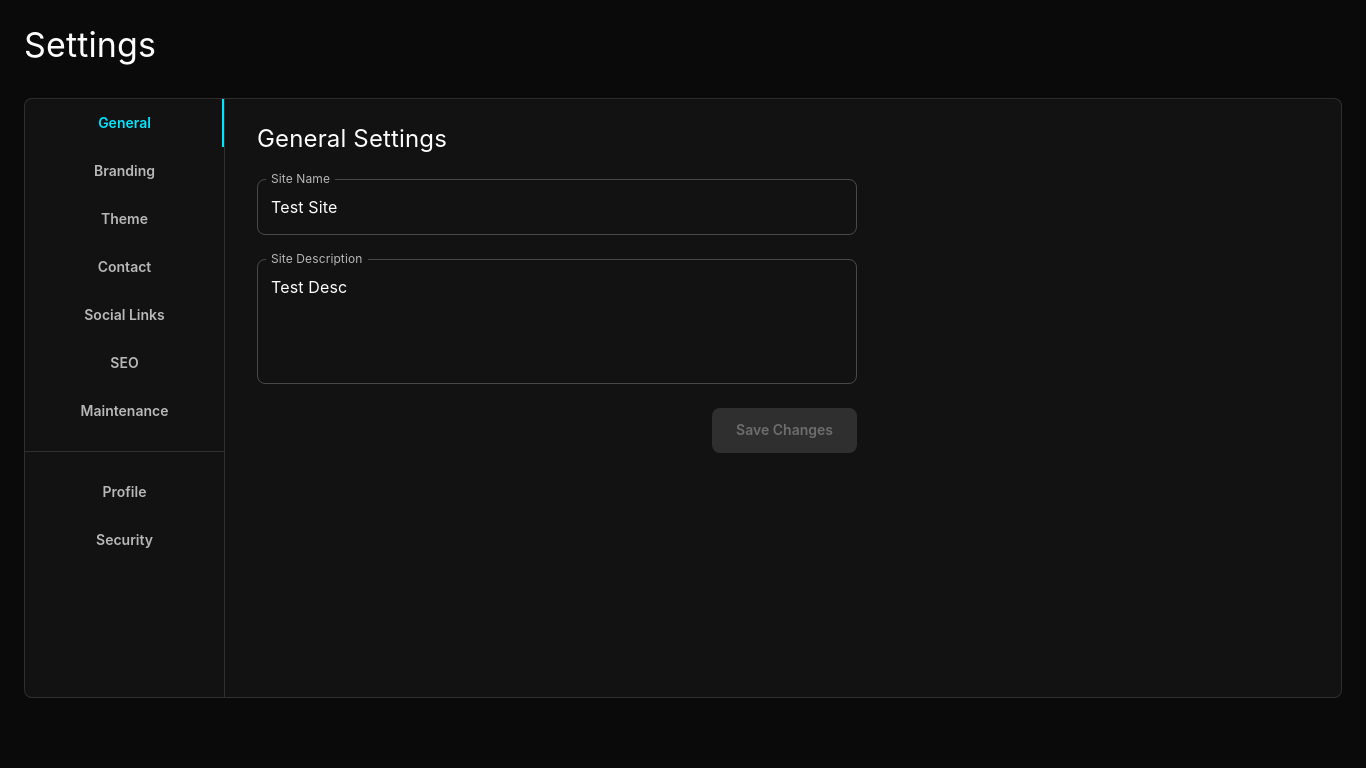
Test: SettingsPage Component › switches to Theme tab when clicked
What coordinates should you click on to do the following:
click the tab "Theme"
I would click on:
 (124, 219)
Its box is [25,195,224,243].
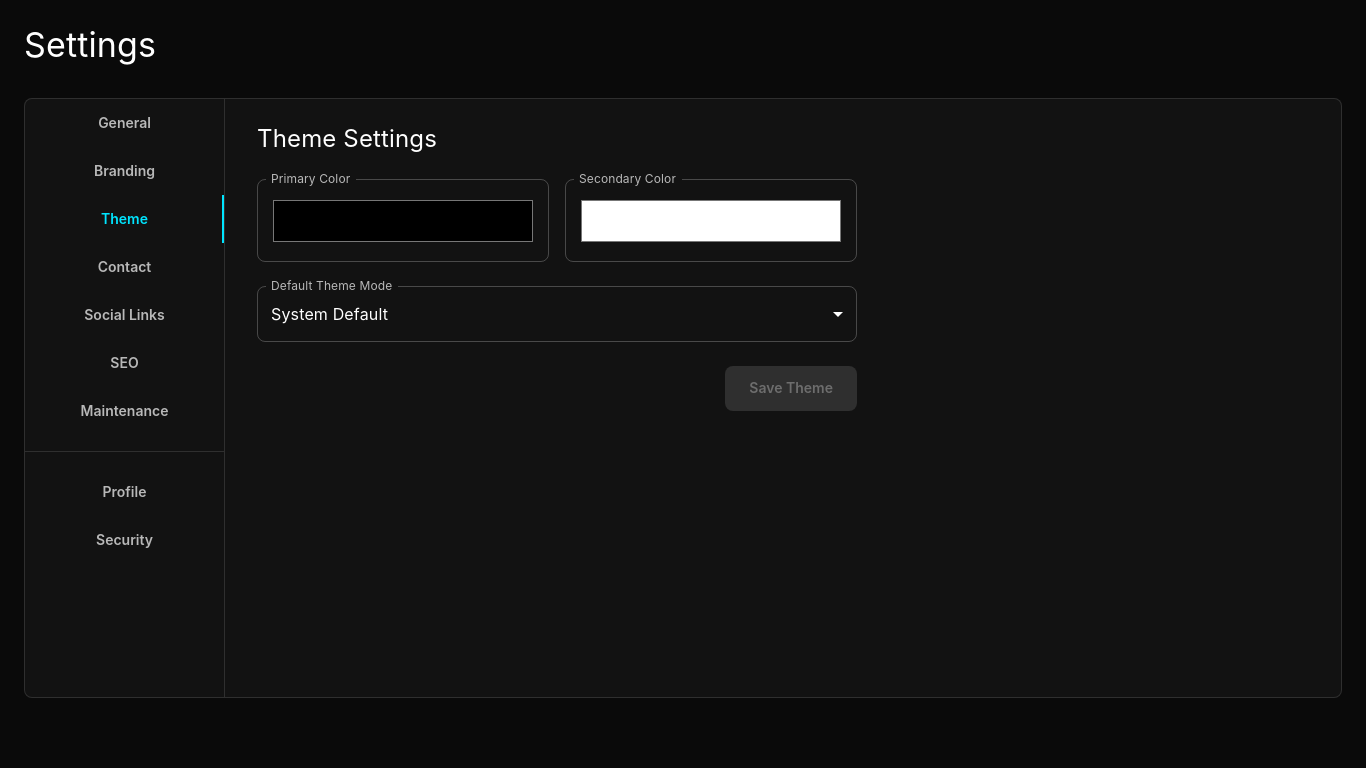
Check: the heading "Theme Settings" is shown, box [257,124,437,153]
